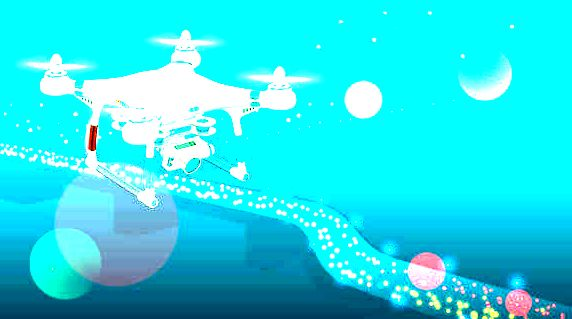Drone: (22, 28, 318, 209)
